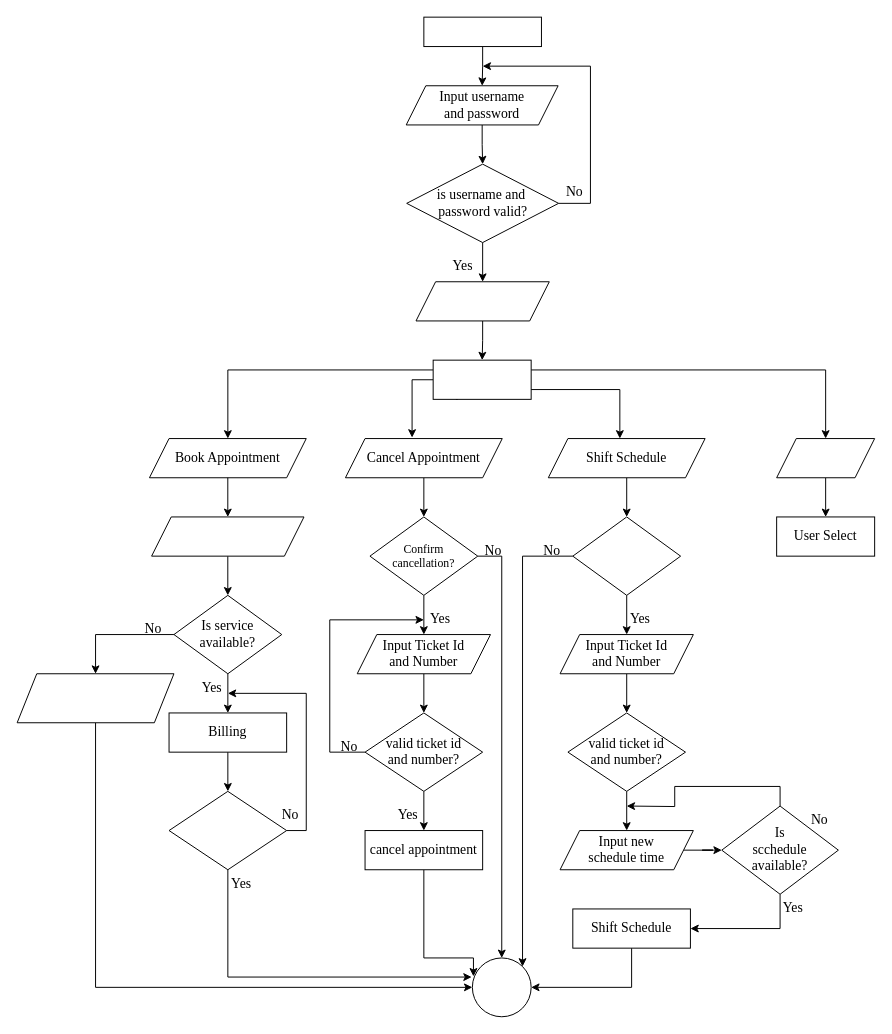
This 892x1034 diagram has some shape labels left out. The centre of each missing label's shape, as x and y in pixels:
"Choose Option" goes at [481,379].
"Confirm shift?" goes at [626,555].
"Display Dashboard" goes at [482,301].
"Display No Available Services" goes at [95,698].
"Is billing information correct?" goes at [227,830].
"Sign Out" goes at [825,458].
"USER" goes at [482,31].
"Which Service" goes at [227,536].
